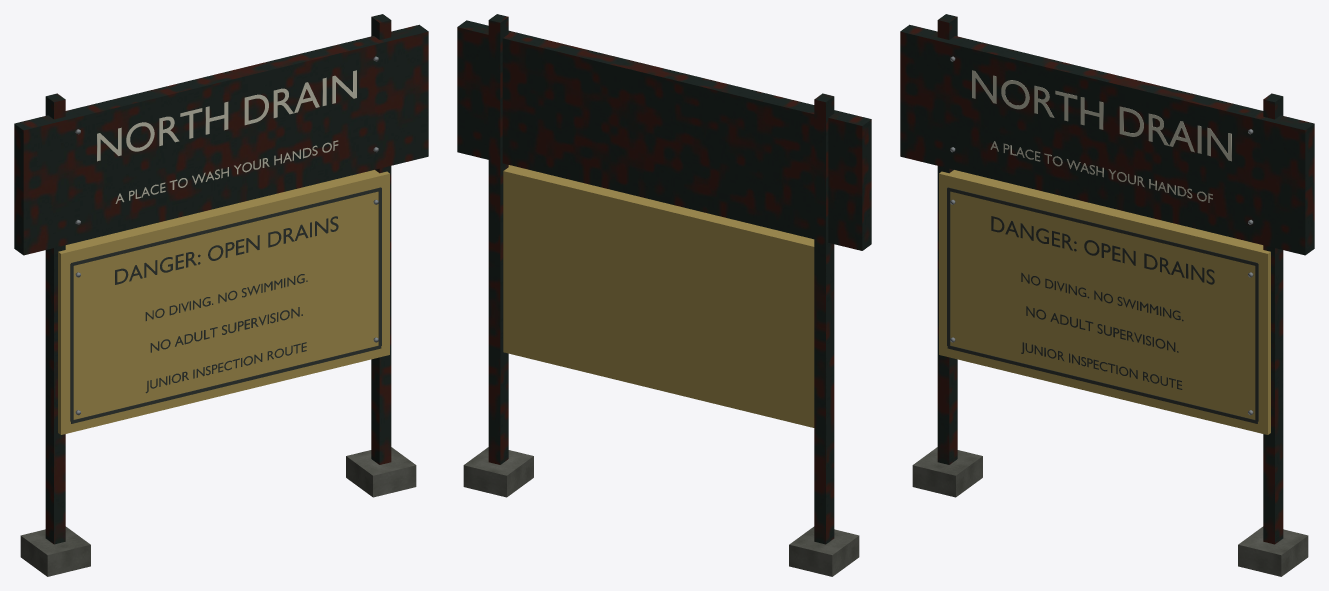
Rendered from north-drain-notice.glb.
3 views of the same model, side by side, from view 1: azimuth 30°, elevation 25°; view 2: azimuth 150°, elevation 25°; view 3: azimuth 330°, elevation 25° (orthographic).
Parts seen in each view (by area): view 1: Drain warning backing, County enamel name board, Galvanised warning post, Galvanised warning post.001, District name, Post concrete footing, Post concrete footing.001, Warning heading, Warning border.003, Warning border.002, District motto, Warning footer (+4 smaller); view 2: Drain warning backing, County enamel name board, Galvanised warning post, Galvanised warning post.001, Post concrete footing, Post concrete footing.001; view 3: Drain warning backing, County enamel name board, Galvanised warning post.001, Galvanised warning post, District name, Post concrete footing.001, Post concrete footing, Warning heading, Warning border.002, Warning border.003, District motto, Warning footer (+4 smaller).
Part boxes in pixels (bbox=[...]): Drain warning backing: bbox=[58, 170, 389, 434]; County enamel name board: bbox=[14, 24, 428, 255]; Galvanised warning post: bbox=[45, 93, 65, 544]; Galvanised warning post.001: bbox=[371, 14, 391, 464]; District name: bbox=[97, 70, 356, 161]; Post concrete footing: bbox=[20, 526, 90, 576]; Post concrete footing.001: bbox=[346, 447, 416, 497]; Warning heading: bbox=[115, 216, 338, 284]; Warning border.003: bbox=[71, 187, 381, 265]; Warning border.002: bbox=[71, 345, 381, 423]; District motto: bbox=[115, 140, 338, 203]; Warning footer: bbox=[145, 342, 306, 393]; Drain warning backing: bbox=[503, 165, 814, 427]; County enamel name board: bbox=[457, 20, 871, 250]; Galvanised warning post: bbox=[814, 93, 834, 544]; Galvanised warning post.001: bbox=[488, 14, 508, 464]; Post concrete footing: bbox=[789, 526, 859, 576]; Post concrete footing.001: bbox=[463, 447, 533, 497]; Drain warning backing: bbox=[939, 170, 1270, 434]; County enamel name board: bbox=[900, 24, 1314, 255]; Galvanised warning post.001: bbox=[1263, 93, 1283, 544]; Galvanised warning post: bbox=[937, 14, 957, 464]; District name: bbox=[972, 70, 1231, 161]; Post concrete footing.001: bbox=[1238, 526, 1308, 576]; Post concrete footing: bbox=[912, 447, 982, 497]; Warning heading: bbox=[991, 216, 1214, 284]; Warning border.002: bbox=[947, 345, 1257, 423]; Warning border.003: bbox=[947, 187, 1257, 265]; District motto: bbox=[990, 141, 1212, 202]; Warning footer: bbox=[1021, 342, 1182, 389].
Bounding box in the file's own units: 2.34 × 2.56 × 0.27.
Materials: 6 (2 with a texture image).
